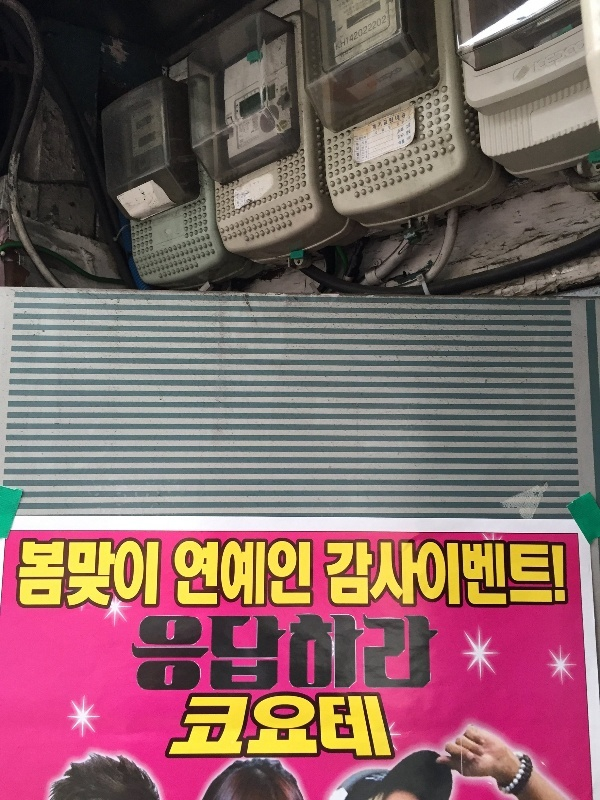text: (145, 609, 160, 697), (161, 609, 176, 697), (177, 609, 192, 697), (193, 609, 208, 697), (209, 609, 224, 697), (225, 609, 240, 697), (241, 609, 256, 697), (257, 609, 272, 697), (273, 609, 288, 697), (289, 609, 304, 697), (305, 609, 320, 697), (321, 609, 336, 697), (337, 609, 352, 697), (353, 609, 368, 697), (369, 609, 384, 697), (385, 609, 400, 697), (401, 609, 416, 697), (417, 609, 432, 697), (33, 537, 48, 614), (49, 537, 64, 614), (65, 537, 80, 614), (81, 537, 96, 614), (97, 537, 112, 614), (113, 537, 128, 614), (129, 537, 144, 614), (145, 537, 160, 614), (177, 536, 192, 609), (193, 536, 208, 609), (209, 536, 224, 609), (225, 536, 240, 609), (241, 536, 256, 609), (257, 536, 272, 609), (273, 536, 288, 609), (289, 536, 304, 609), (193, 690, 208, 762), (209, 690, 224, 762), (225, 690, 240, 762), (241, 690, 256, 762), (257, 690, 272, 762), (273, 690, 288, 762), (289, 690, 304, 762), (305, 690, 320, 762), (321, 690, 336, 762), (337, 690, 352, 762), (353, 690, 368, 762), (369, 690, 384, 762), (337, 539, 352, 609), (353, 539, 368, 609), (369, 539, 384, 609), (385, 539, 400, 609), (401, 539, 416, 609), (417, 539, 432, 609), (433, 539, 448, 609), (449, 539, 464, 609), (465, 539, 480, 609), (481, 539, 496, 609), (497, 539, 512, 609), (513, 539, 528, 609), (529, 539, 544, 609), (545, 539, 560, 609), (385, 690, 399, 762), (19, 537, 32, 614), (134, 609, 144, 697), (325, 539, 336, 609), (561, 539, 572, 609), (433, 609, 441, 697), (305, 536, 314, 609), (545, 38, 560, 75), (561, 38, 576, 75), (353, 12, 368, 47), (369, 12, 384, 47), (185, 690, 192, 762), (534, 38, 544, 75), (385, 112, 400, 132), (577, 38, 585, 75), (385, 66, 400, 85), (344, 12, 352, 47), (353, 1, 368, 18), (372, 112, 384, 132), (337, 35, 346, 55), (340, 46, 352, 59), (343, 1, 352, 18), (376, 66, 384, 85), (174, 536, 176, 609), (401, 115, 411, 128), (338, 1, 352, 9), (241, 194, 256, 201), (401, 112, 406, 132), (342, 1, 352, 11), (375, 125, 384, 136), (357, 152, 368, 161), (356, 143, 368, 151), (407, 134, 416, 144), (369, 1, 374, 18), (356, 135, 368, 142), (406, 122, 416, 130), (406, 128, 416, 136), (161, 537, 162, 614), (385, 12, 387, 47), (385, 125, 391, 136), (241, 199, 256, 203), (401, 66, 404, 85), (334, 35, 336, 55), (397, 115, 400, 128), (362, 145, 368, 151), (362, 155, 368, 161), (401, 126, 405, 134), (401, 132, 405, 140), (401, 138, 405, 146), (362, 140, 368, 145), (362, 151, 368, 155), (237, 193, 240, 200), (237, 201, 240, 208), (398, 126, 400, 134), (398, 132, 400, 140), (353, 1, 354, 11), (399, 138, 400, 146)
